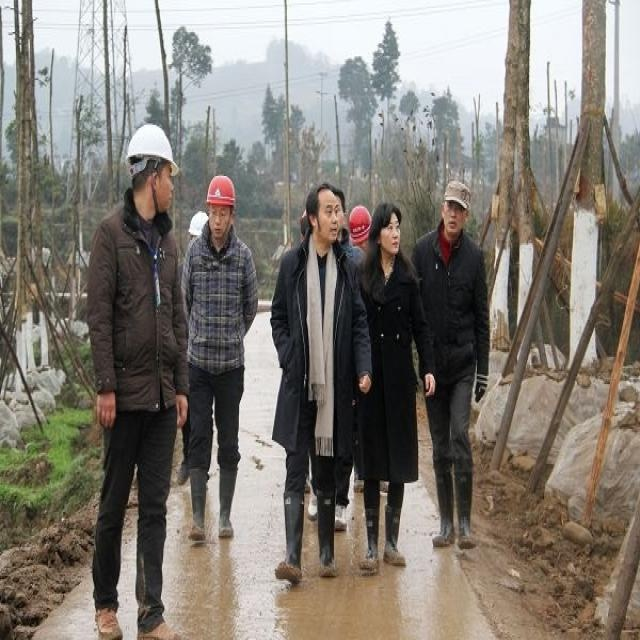Con_Casco: (125, 122, 180, 213)
Sin_Casco_Mascarrilla: (307, 181, 343, 241), (372, 201, 403, 259)
Sin_Chaleco: (183, 230, 251, 363)
